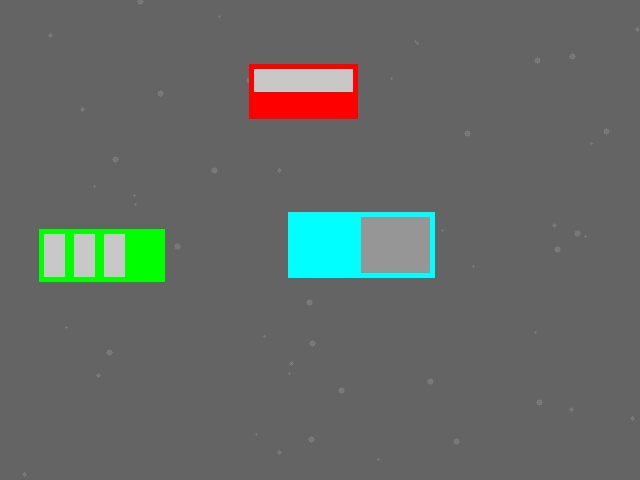bus: (39, 229, 164, 281)
car: (249, 64, 357, 118)
truck: (288, 212, 434, 277)
